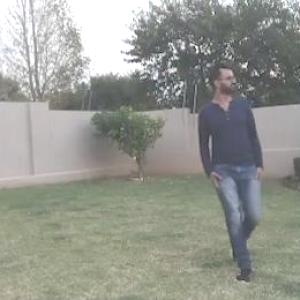follow: (196, 54, 272, 276)
